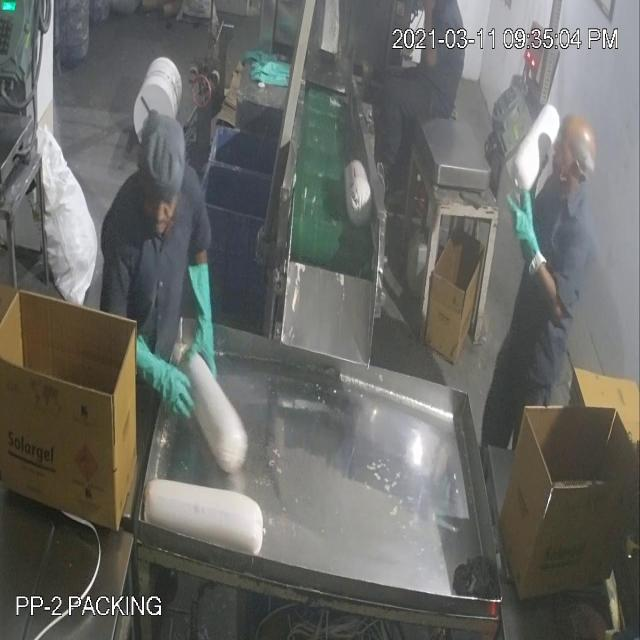gloves: (186, 258, 223, 379), (506, 185, 546, 283)
no-gloves: (418, 1, 446, 74)
